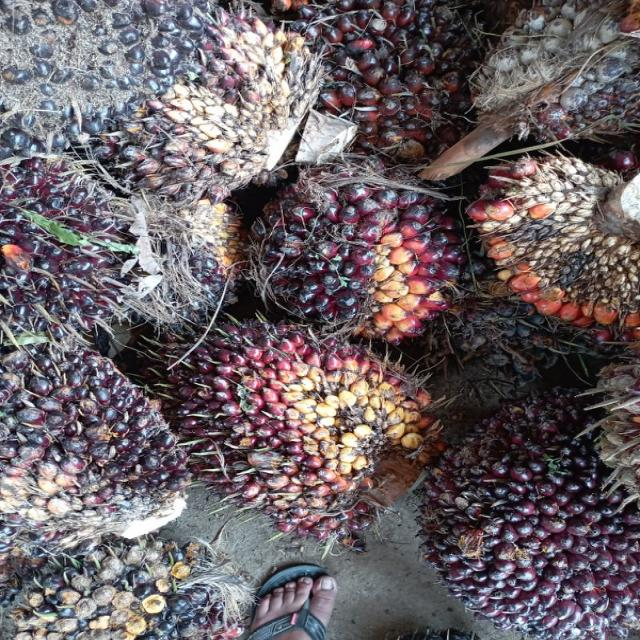fraksi 00: (0, 0, 294, 198), (429, 408, 640, 640), (250, 158, 468, 349), (0, 352, 212, 542)
fraksi 1: (150, 305, 452, 520)
